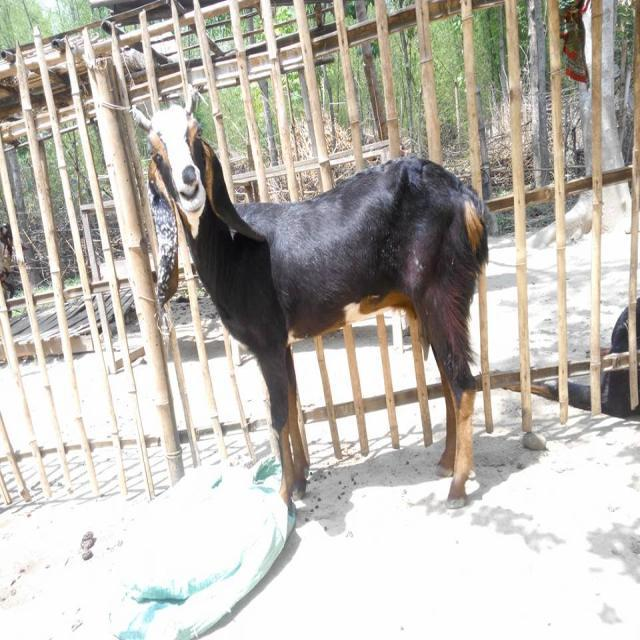Goat: (129, 82, 494, 520)
